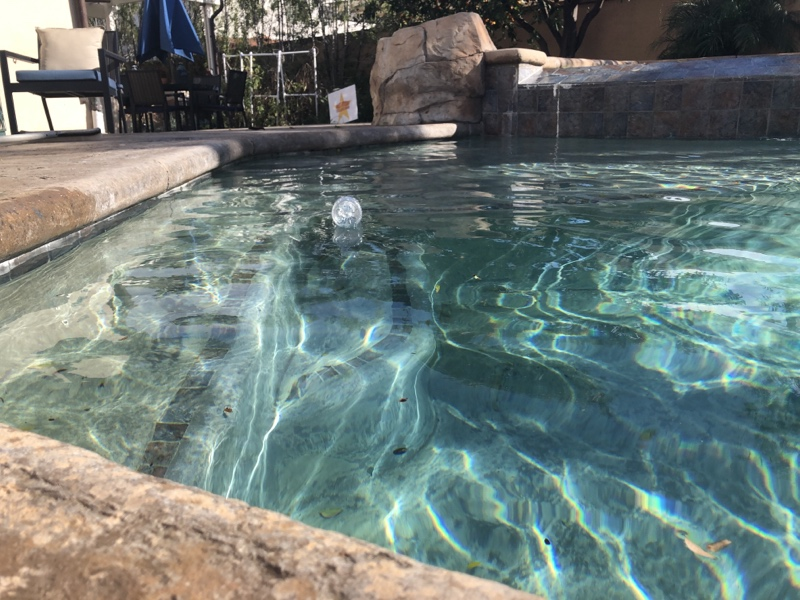Plastic Bottle: (328, 196, 365, 231)
